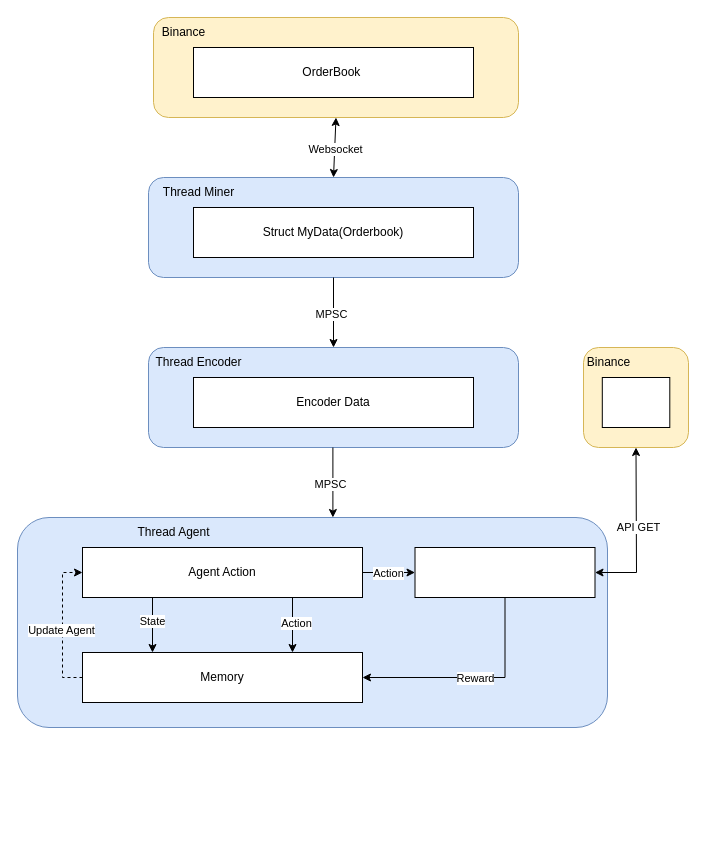
The diagram is 706 pixels wide and 855 high, and some of its shapes have lost their labels. Here are the shapes that lost their labels. From the top down, the centre of each, then its label:
At (x=635, y=402): "Price live".
At (x=504, y=572): "Portefeuille 50%USDT/50%BTC".
